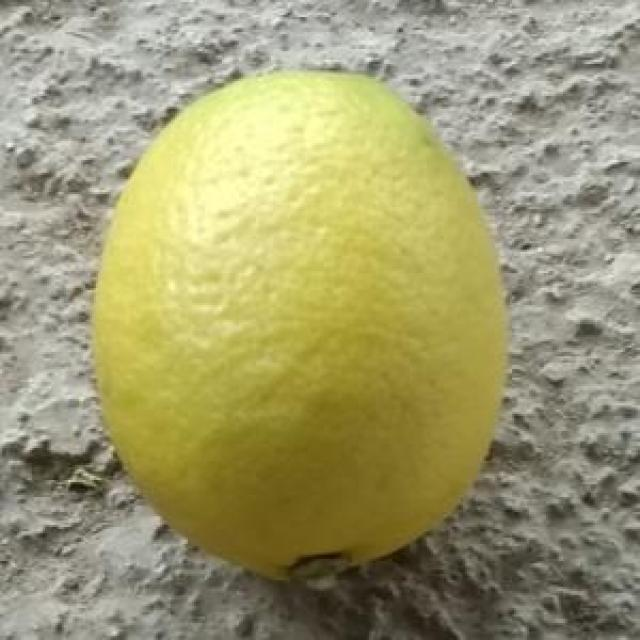lemon: (90, 66, 510, 583)
